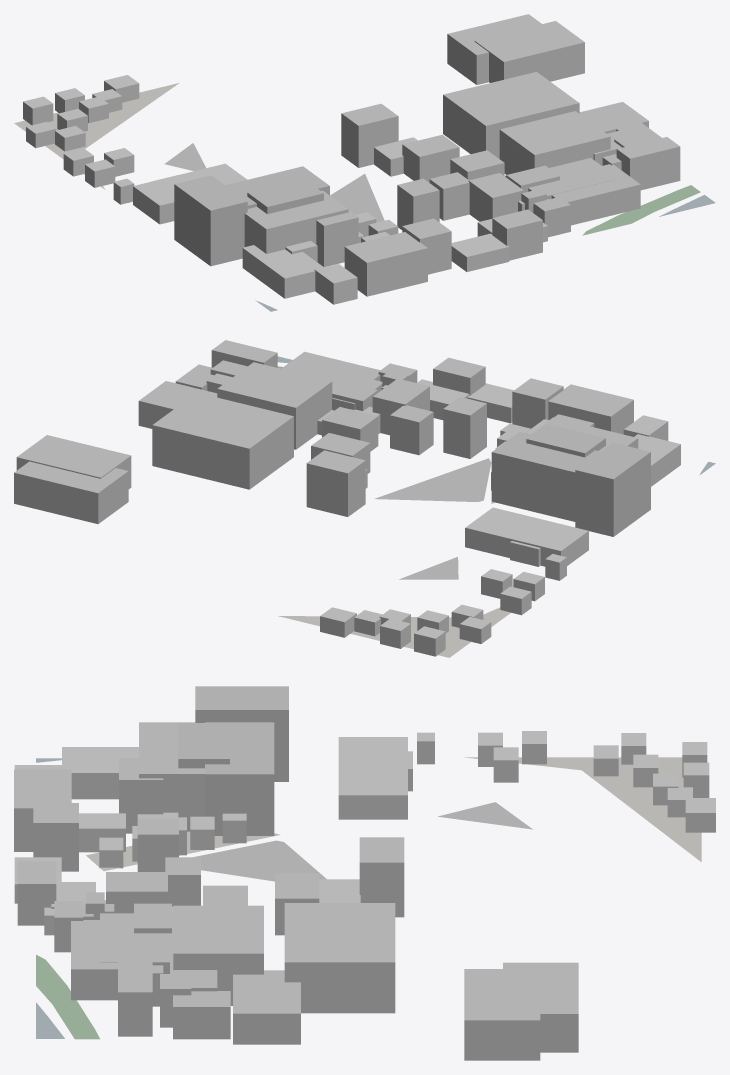
The model's file is 119_105_mid.glb.
3 renders of one model, top to bottom at view 1: azimuth 30°, elevation 25°; view 2: azimuth 150°, elevation 25°; view 3: azimuth 270°, elevation 25°, orthographic. The views are drawn at different scales.
Size of the model in its own units: 550 by 60.08 by 527.
